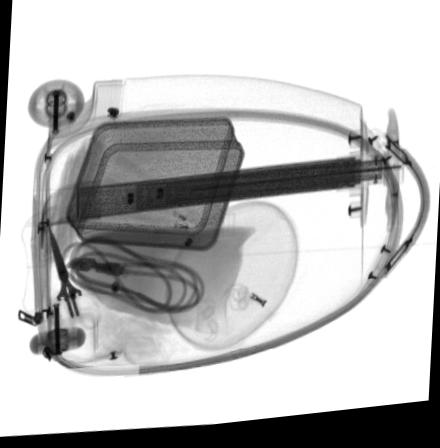Scissors: (45, 223, 102, 334)
